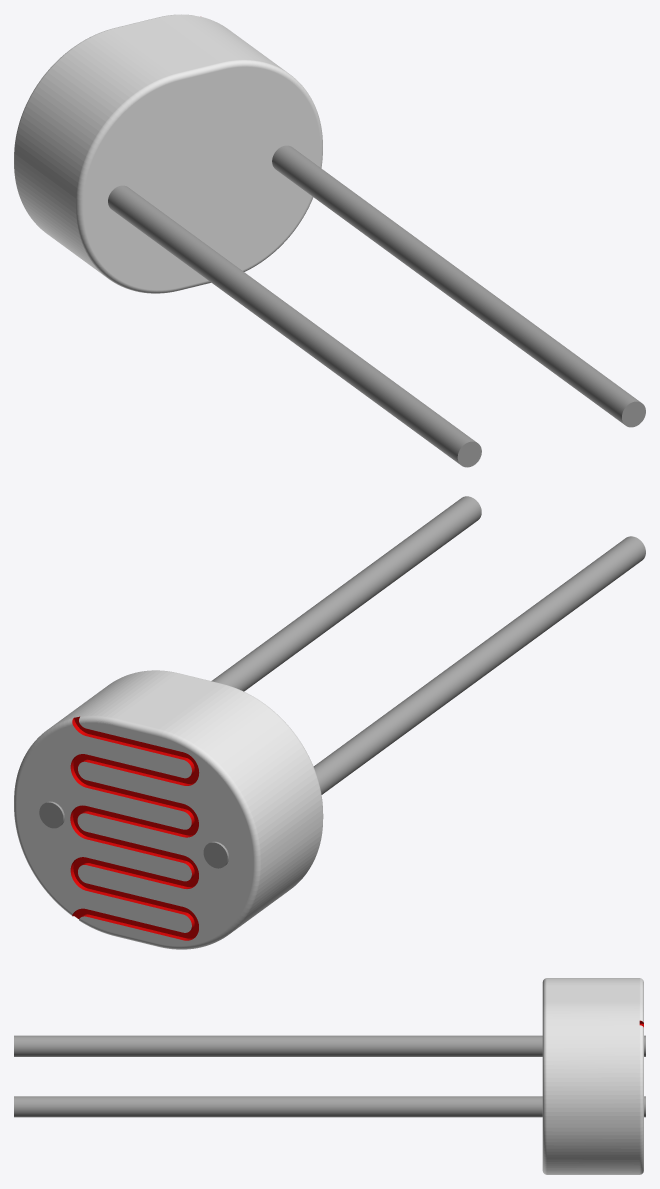
The model's file is photo_resistor.fbx.
3 views of the same model, one above another, from view 1: azimuth 30°, elevation 25°; view 2: azimuth 150°, elevation 25°; view 3: azimuth 270°, elevation 25° (orthographic). The views are drawn at different scales.
Visible parts, largest first — view 1: imagetostl_mesh0, imagetostl_mesh2; view 2: imagetostl_mesh0, imagetostl_mesh2, imagetostl_mesh1; view 3: imagetostl_mesh2, imagetostl_mesh0.
Boxes of the visible parts, <box> form: imagetostl_mesh0: <box>14,14,322,293</box>; imagetostl_mesh2: <box>108,145,645,467</box>; imagetostl_mesh0: <box>14,670,323,949</box>; imagetostl_mesh2: <box>39,496,645,868</box>; imagetostl_mesh1: <box>70,716,199,940</box>; imagetostl_mesh2: <box>14,1035,645,1117</box>; imagetostl_mesh0: <box>542,978,643,1174</box>.
Bounding box in the file's own units: 510 × 430 × 1500.
